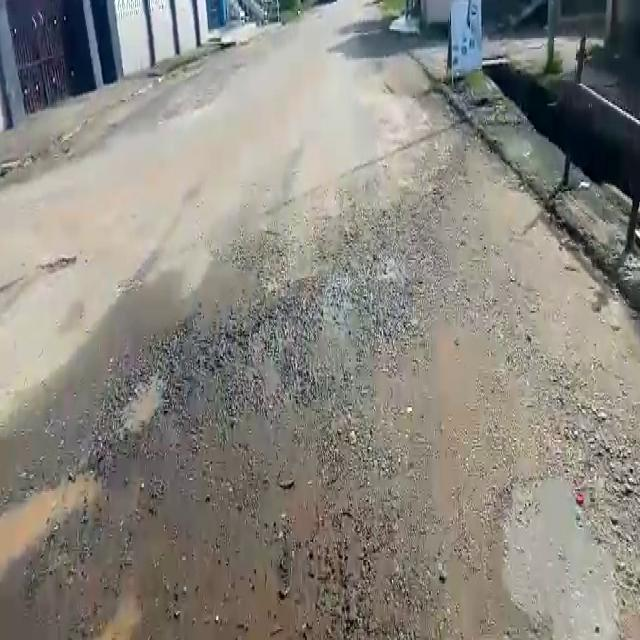pothole: (118, 362, 171, 434)
